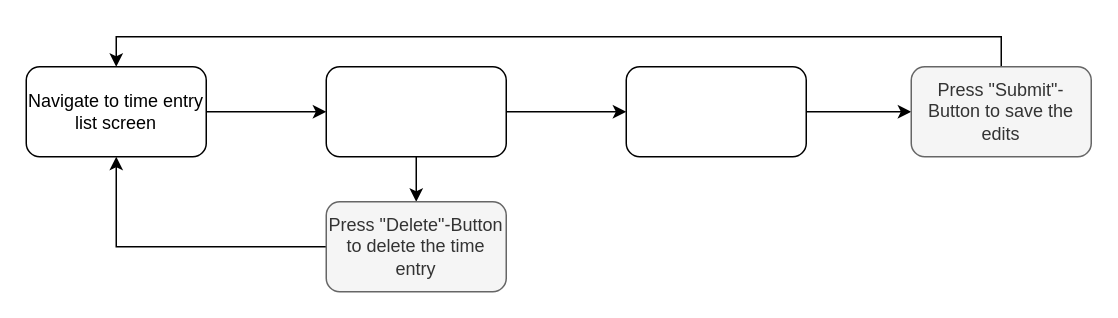
The diagram is 1118 pixels wide and 318 high, and some of its shapes have lost their labels. Each missing label, with the box of its shape:
Click on a time entry to edit / delete it: (325, 65, 506, 157)
Edit time entry data: (625, 65, 806, 157)
